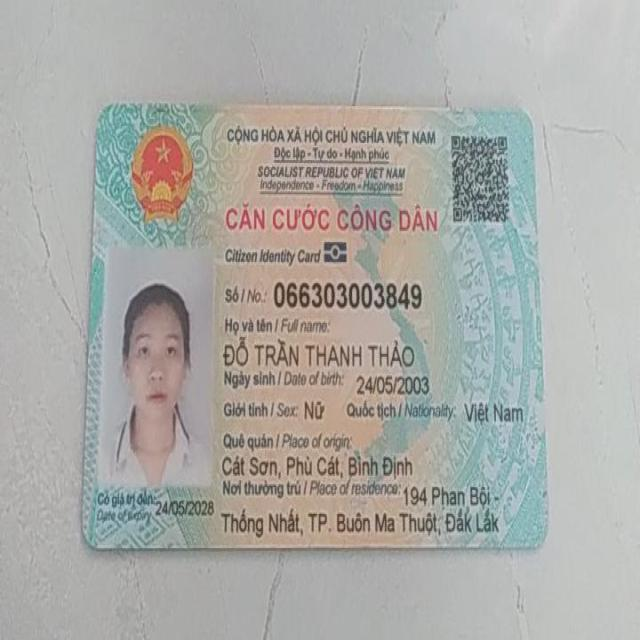bottom_left: (66, 503, 130, 562)
bottom_right: (502, 508, 562, 563)
image_person: (111, 248, 222, 486)
top_left: (81, 88, 139, 140)
top_right: (499, 100, 554, 149)
